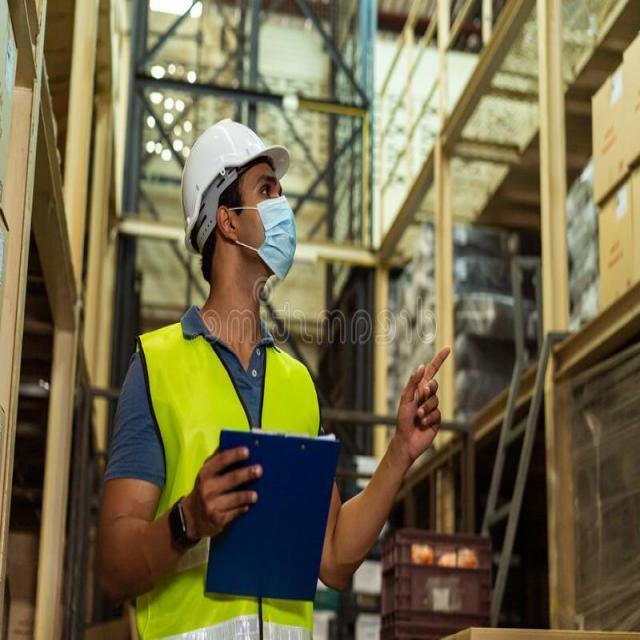Reflective-Jacket: (127, 313, 330, 636)
Safety-Helmet: (172, 111, 292, 242)
